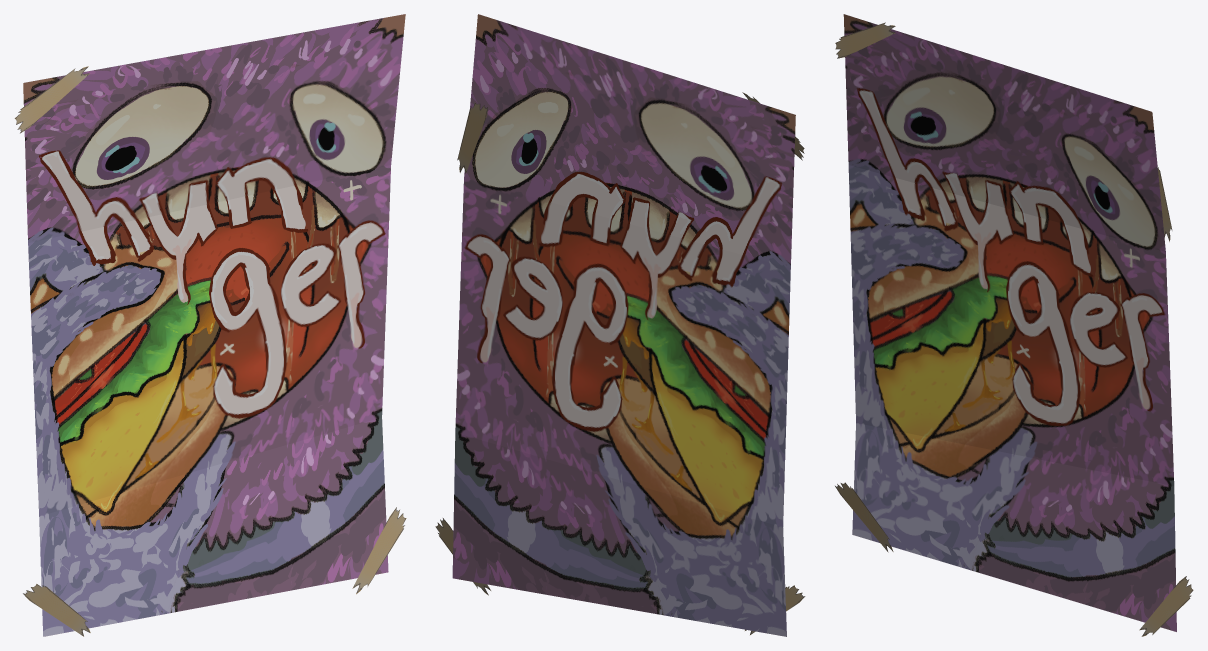
Rendered from PosterHunger.fbx.
3 views of the same model, side by side, from view 1: azimuth 30°, elevation 25°; view 2: azimuth 150°, elevation 25°; view 3: azimuth 330°, elevation 25° (orthographic). The views are drawn at different scales.
Visible parts, largest first — view 1: Poster, Tape, Tape.001, Tape.002; view 2: Poster, Tape.004; view 3: Poster, Tape.001, Tape, Tape.002.
Boxes of the visible parts, x1,y1,x2,y2 form: Poster: (23, 14, 405, 636); Tape: (14, 66, 89, 133); Tape.001: (352, 507, 406, 594); Tape.002: (23, 584, 90, 636); Poster: (452, 14, 795, 636); Tape.004: (457, 102, 487, 173); Poster: (843, 14, 1176, 631); Tape.001: (1139, 576, 1193, 636); Tape: (835, 22, 895, 58); Tape.002: (835, 482, 893, 552).
Bounding box in the file's own units: 227 × 330 × 25.41.
5 materials, 5 textured.
